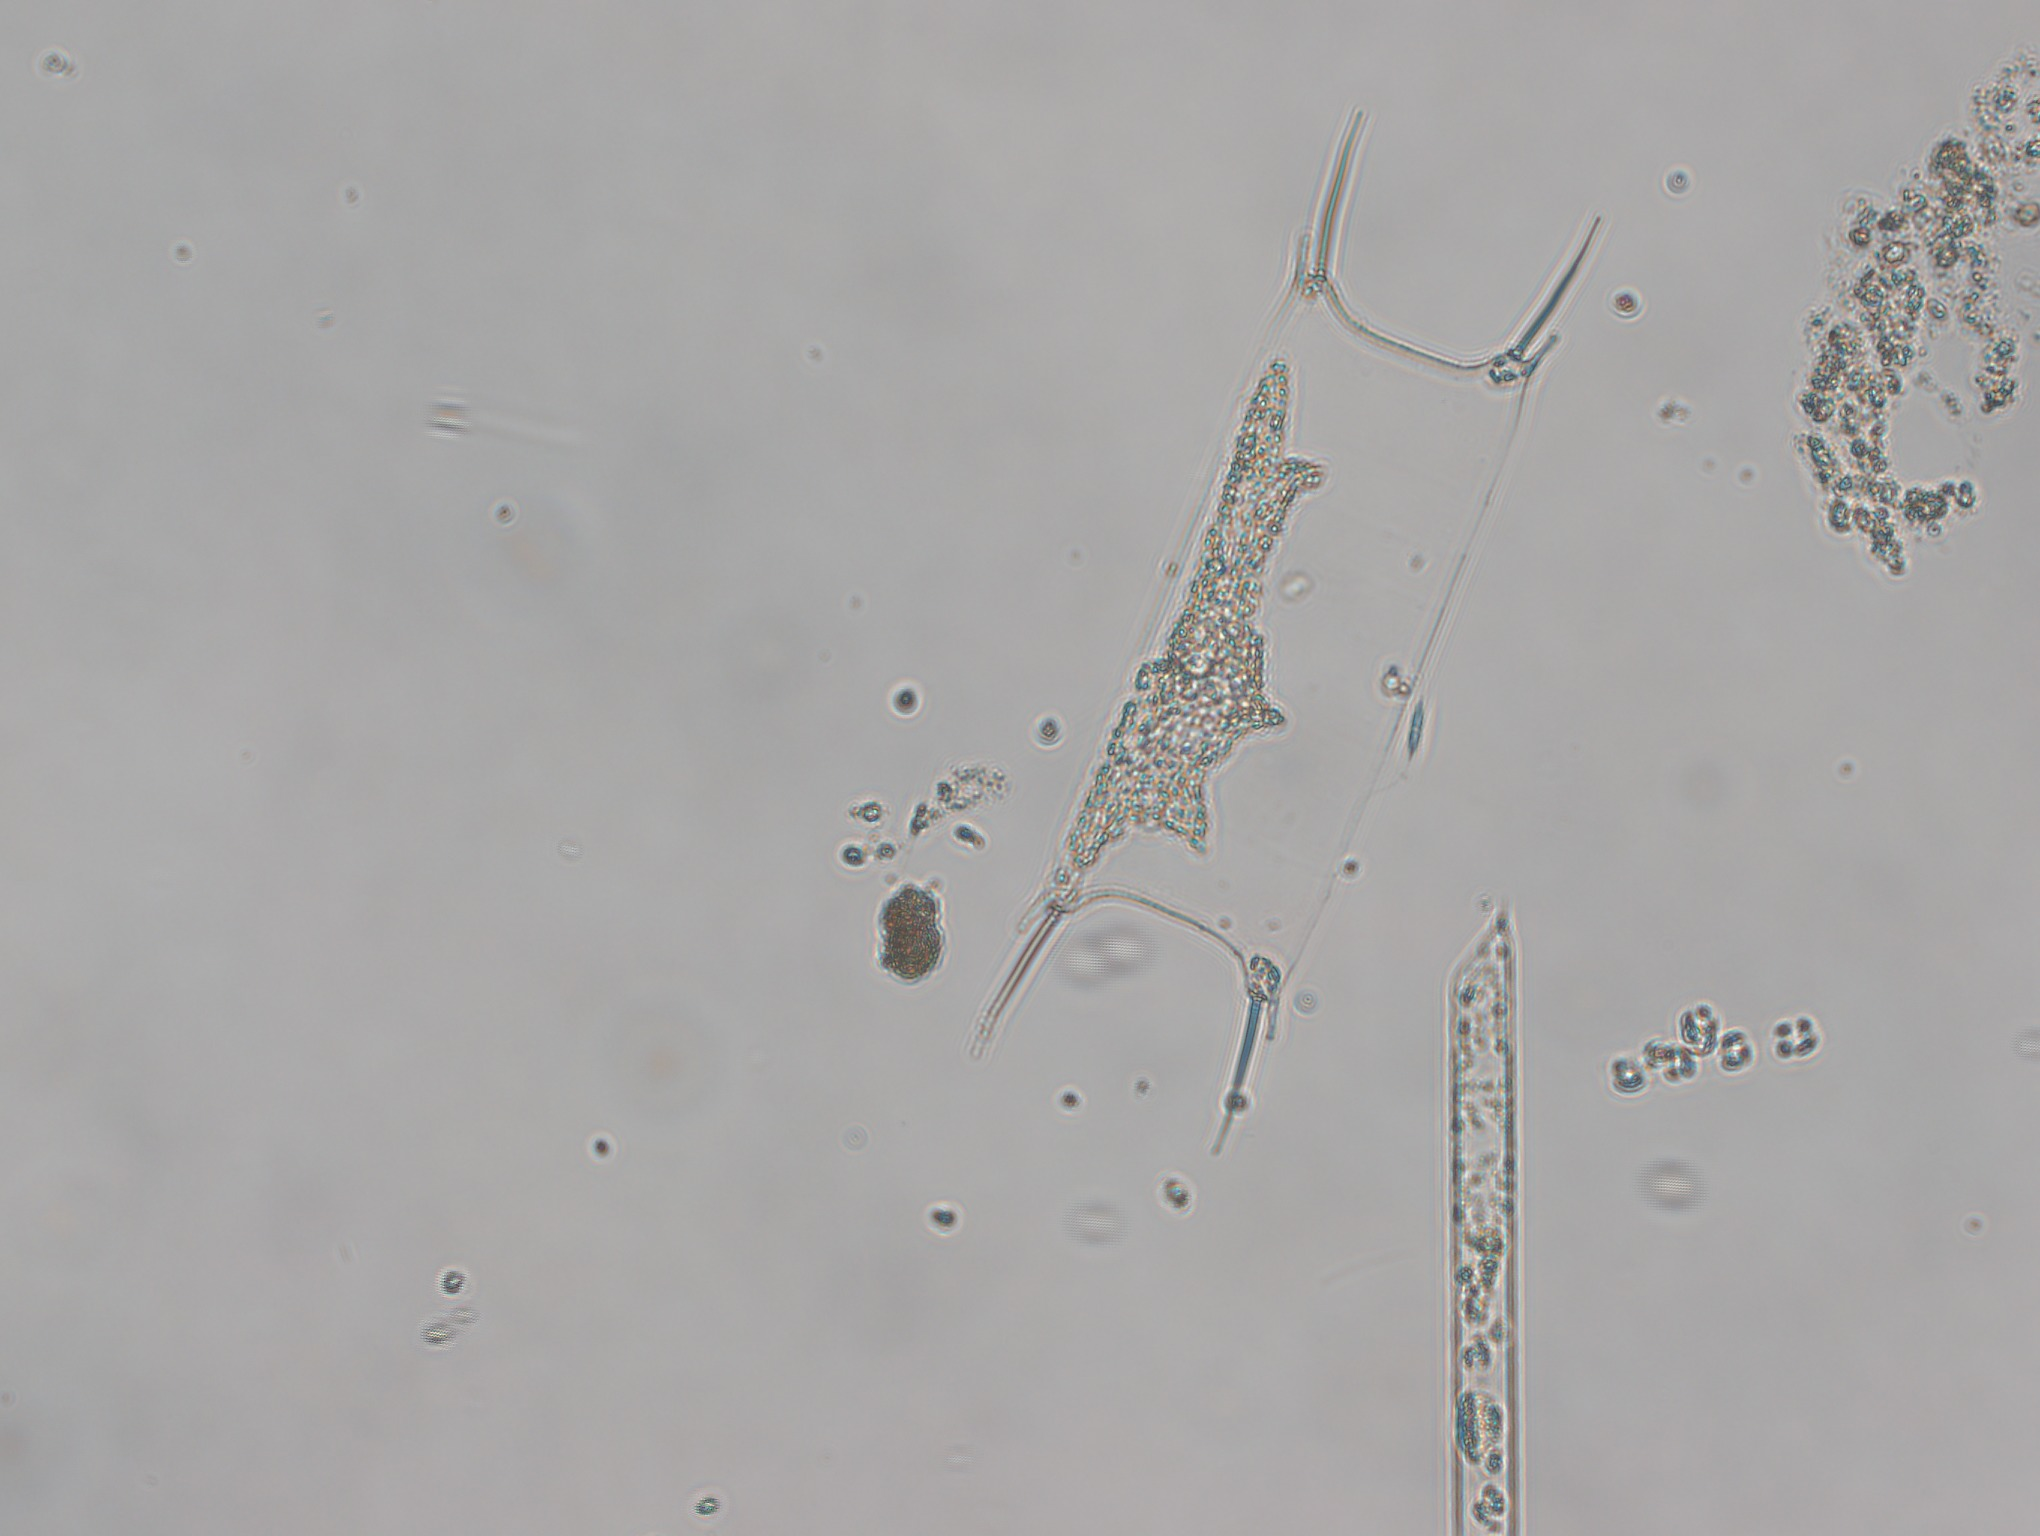biddulphia: (963, 111, 1608, 1168)
rhizosolenia: (1424, 908, 1542, 1534)
